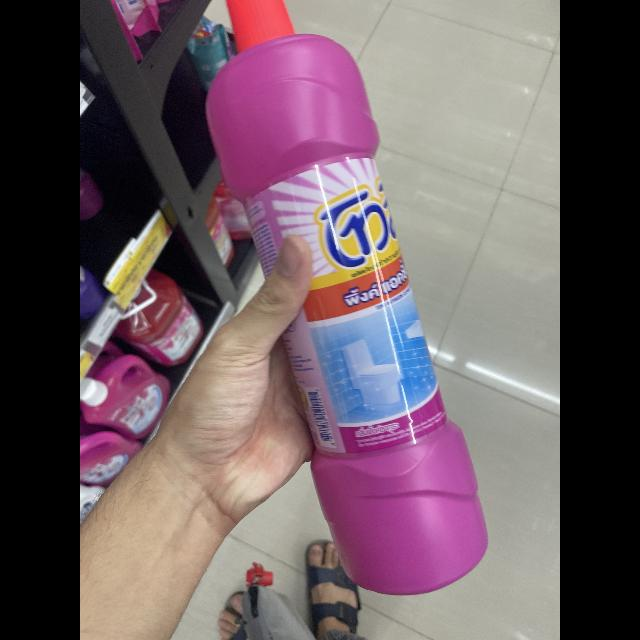chemical_plastic_bottle: (201, 0, 487, 598)
